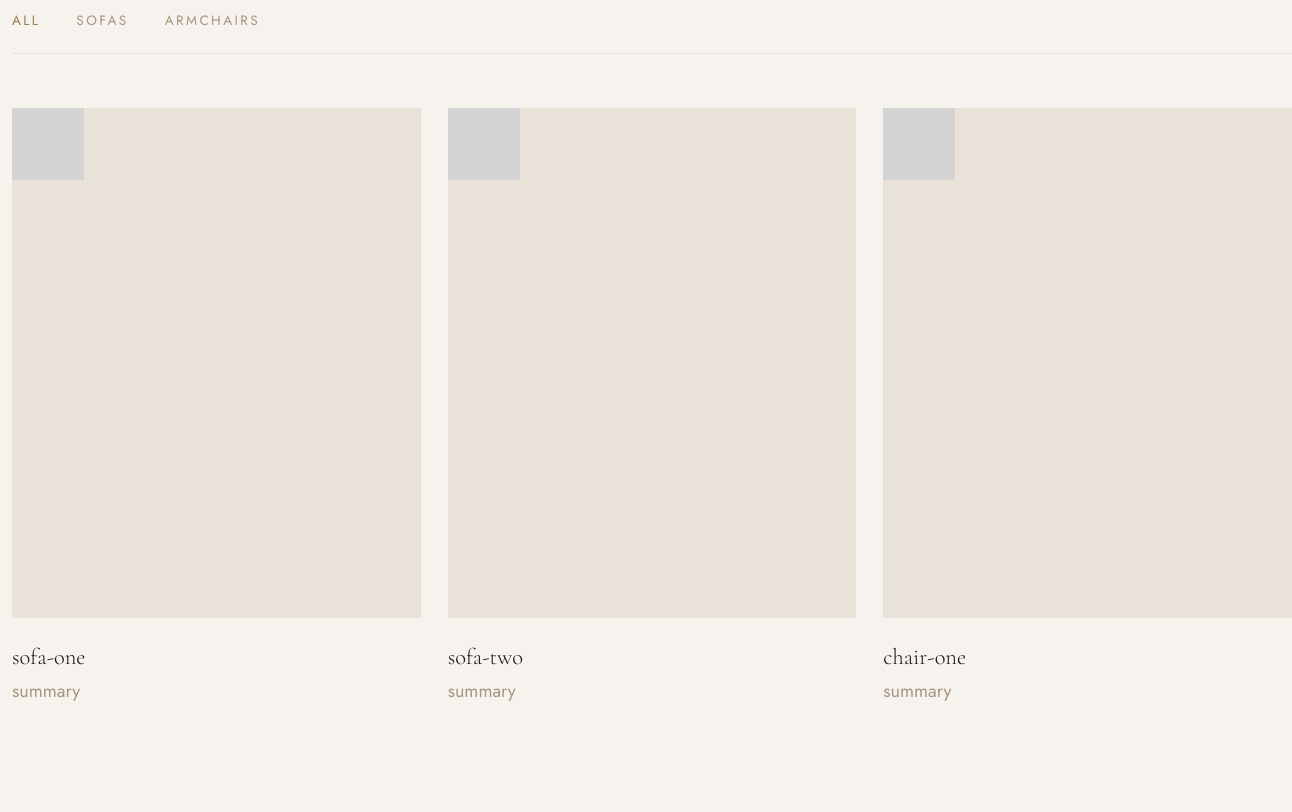
it: CategoryProducts › restores the full list when All is reselected
The image size is (1292, 812).
What coordinates should you click on to do the following:
click the button "Armchairs"
I would click on:
 (212, 21)
Its box is [165,12,260,30].
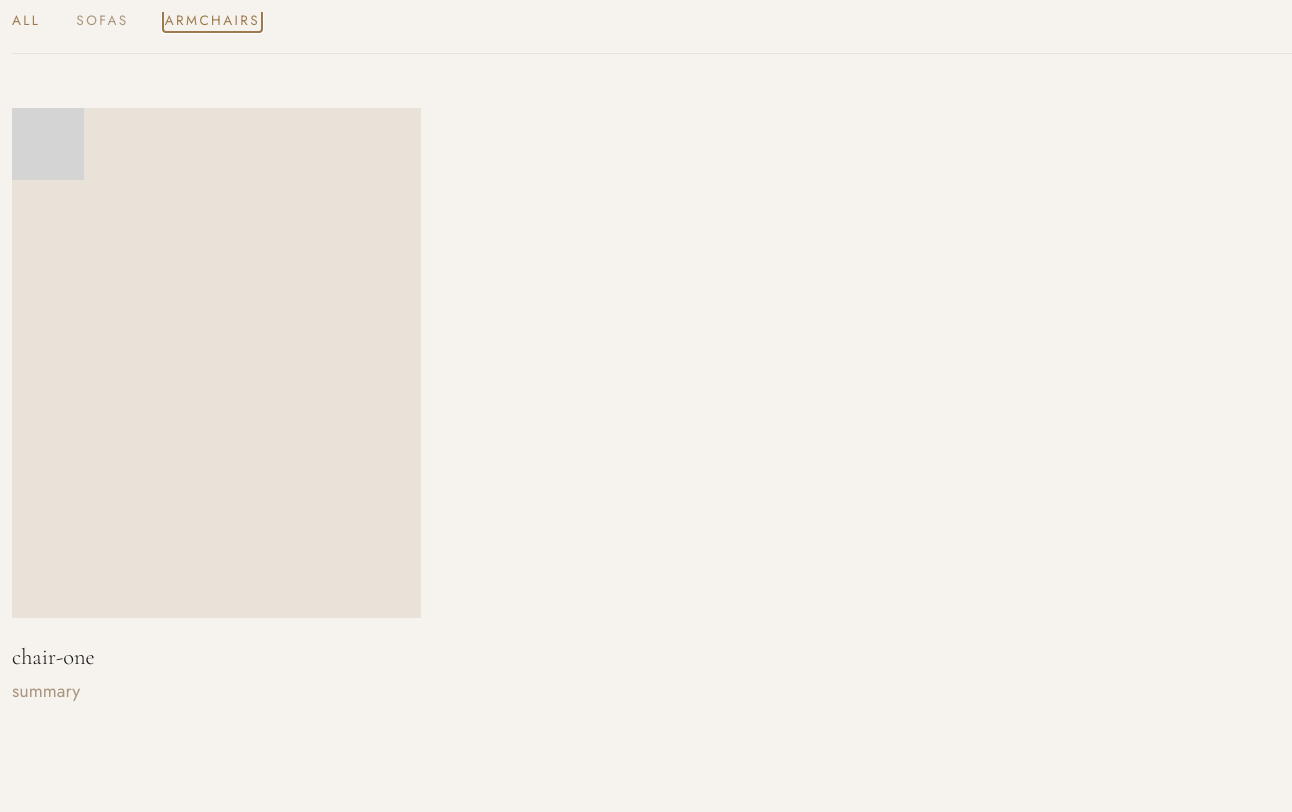
What coordinates should you click on to do the following:
click the button "All"
I would click on:
 (26, 21)
Its box is [12,12,40,30].
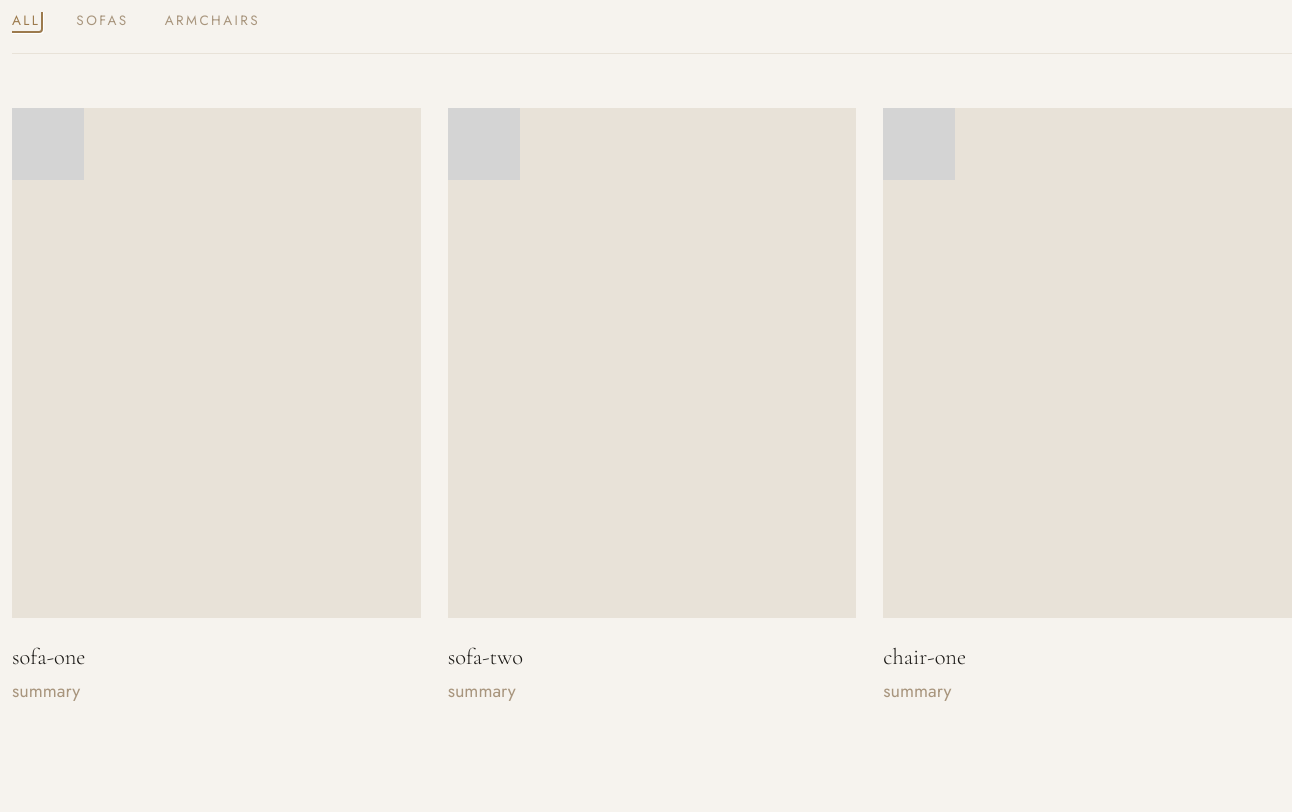
Now the heading "sofa-one" is shown, box [12,643,85,670]
Now the heading "sofa-two" is shown, box [448,643,523,670]
